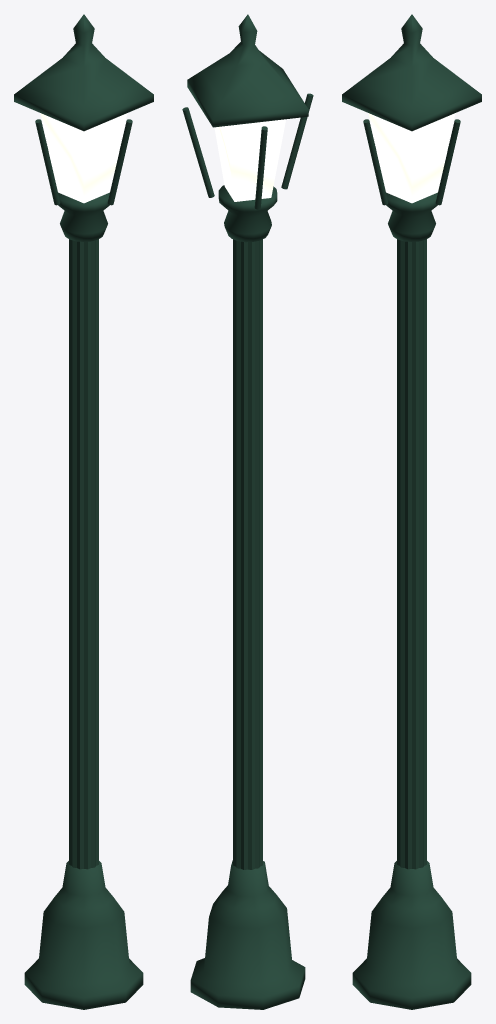
Rendered from street_lamp.glb.
3 views of the same model, side by side, from view 1: azimuth 90°, elevation 25°; view 2: azimuth 150°, elevation 25°; view 3: azimuth 270°, elevation 25° (orthographic).
Visible parts, largest first — view 1: street_lamp; view 2: street_lamp; view 3: street_lamp.
Part boxes in pixels (x1,y1,x2,y2): street_lamp: (14,14,153,1009); street_lamp: (182,14,313,1009); street_lamp: (342,14,481,1009).
Size of the model in its own units: 0.52 by 3.98 by 0.52.
